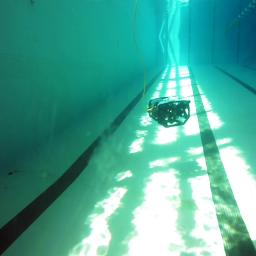Side: (149, 95, 191, 128), (148, 96, 190, 128)
